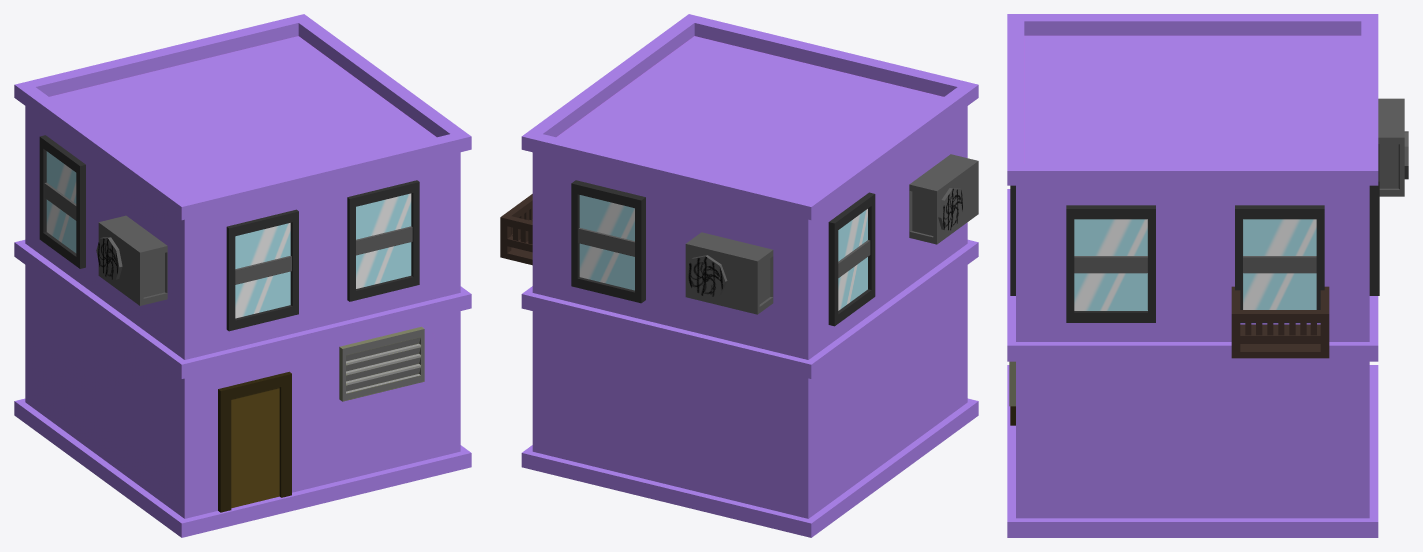
The model's file is 4 Building.fbx.
The picture shows the model from 3 angles, left to right: view 1: azimuth 30°, elevation 25°; view 2: azimuth 150°, elevation 25°; view 3: azimuth 270°, elevation 25°; orthographic projection. The views are drawn at different scales.
Parts seen in each view (by area): view 1: Smol3, Normal Door.001, Cube.043, Window, Cube.047, Air conditioner, Ventilation; view 2: Smol3, Cube.044, Cube.042, Cube.047, Air conditioner, building_068.007; view 3: Smol3, Window1, Cube.045, building_068.007, Cube.042, Cube.044, Cube.043.
Boxes of the visible parts, x1=… form: Smol3: x1=14, y1=14, x2=471, y2=537; Normal Door.001: x1=218, y1=371, x2=291, y2=512; Cube.043: x1=347, y1=180, x2=419, y2=301; Window: x1=226, y1=209, x2=298, y2=331; Cube.047: x1=39, y1=135, x2=85, y2=268; Air conditioner: x1=96, y1=215, x2=167, y2=305; Ventilation: x1=339, y1=326, x2=424, y2=401; Smol3: x1=521, y1=14, x2=978, y2=537; Cube.044: x1=571, y1=180, x2=645, y2=303; Cube.042: x1=685, y1=232, x2=773, y2=314; Cube.047: x1=828, y1=192, x2=875, y2=326; Air conditioner: x1=909, y1=154, x2=978, y2=244; building_068.007: x1=500, y1=194, x2=532, y2=265; Smol3: x1=1007, y1=14, x2=1378, y2=537; Window1: x1=1066, y1=205, x2=1155, y2=322; Cube.045: x1=1235, y1=205, x2=1324, y2=322; building_068.007: x1=1231, y1=286, x2=1329, y2=358; Cube.042: x1=1378, y1=98, x2=1408, y2=196; Cube.044: x1=1369, y1=144, x2=1379, y2=295; Cube.043: x1=1010, y1=185, x2=1015, y2=295.
Size of the model in its own units: 518 by 458 by 454.
